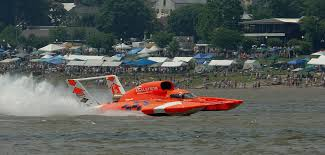boat: (66, 74, 245, 118)
